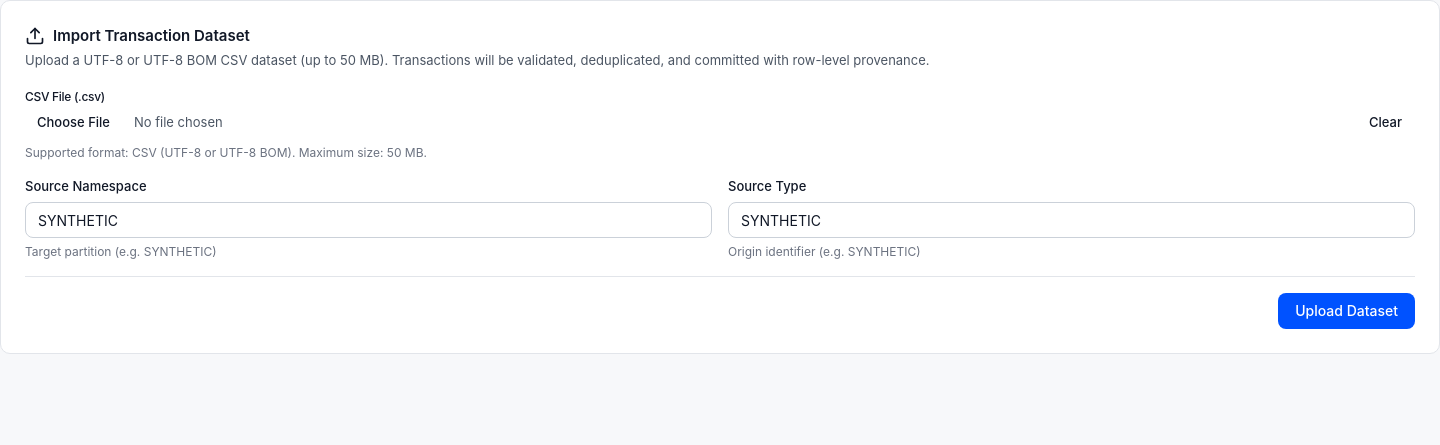
Test: DatasetUploadCard component (F4.4) › handles 409 conflict when another import is in progress
Earlier steps of the test are not shown.
Click the button "Upload Dataset".
click(1347, 311)  # box 1278,293 -> 1415,329
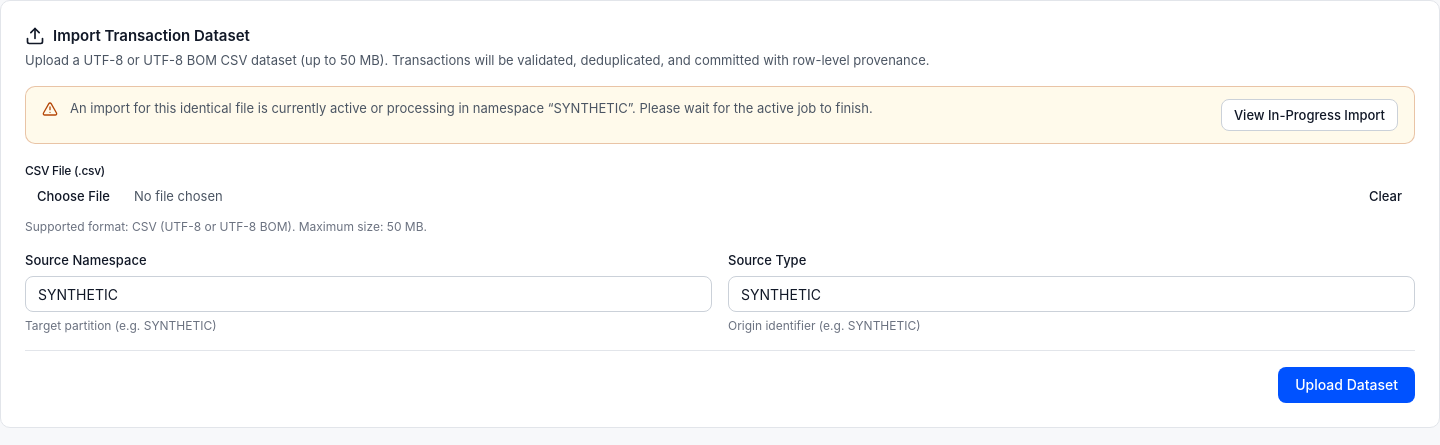
Check: the text "An import for this identical file is currently active" is shown, box 70,100 -> 554,116
Check: the link "View In-Progress Import" is shown, box 1221,99 -> 1398,131
